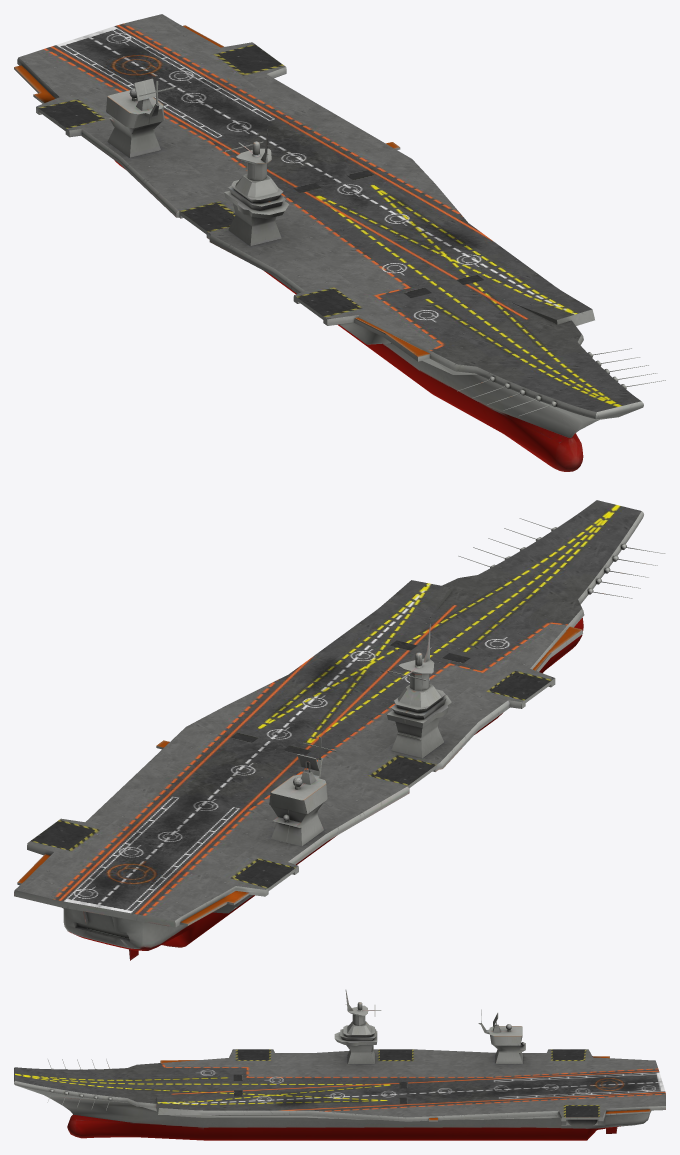
3 views of the same model, one above another, from view 1: azimuth 30°, elevation 25°; view 2: azimuth 150°, elevation 25°; view 3: azimuth 270°, elevation 25° (orthographic). The views are drawn at different scales.
Visible parts, largest first — view 1: Shtorm, tower, elevator1, elevator3, elevator4, elevator2, attachers; view 2: Shtorm, tower, elevator2, elevator1, elevator3, elevator4, attachers; view 3: Shtorm, tower, elevator4, elevator1, elevator3, elevator2.
Part boxes in pixels (x1,y1,x2,y2): Shtorm: (14, 14, 643, 471); tower: (106, 78, 289, 246); elevator1: (297, 289, 358, 319); elevator3: (39, 101, 100, 130); elevator4: (219, 45, 282, 73); elevator2: (180, 203, 234, 234); attachers: (457, 348, 665, 416); Shtorm: (14, 500, 643, 960); tower: (269, 624, 451, 846); elevator2: (374, 757, 435, 787); elevator1: (490, 672, 551, 702); elevator3: (235, 860, 294, 890); elevator4: (31, 821, 94, 849); attachers: (458, 518, 665, 598); Shtorm: (14, 1049, 665, 1140); tower: (334, 989, 525, 1063); elevator4: (566, 1106, 598, 1119); elevator1: (237, 1049, 269, 1059); elevator3: (552, 1049, 584, 1059); elevator2: (380, 1049, 411, 1059).
Size of the model in its own units: 1409 by 1156 by 5521.
Materials: 1 (1 with a texture image).
